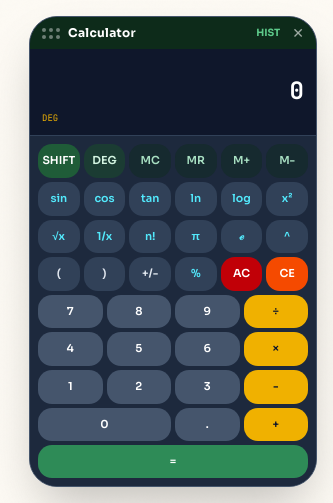
Test case: CalculatorModal › basic arithmetic › handles decimal numbers
This screenshot has width=333, height=503.
Click the button "1" at (70,387), box [38, 370, 102, 404]
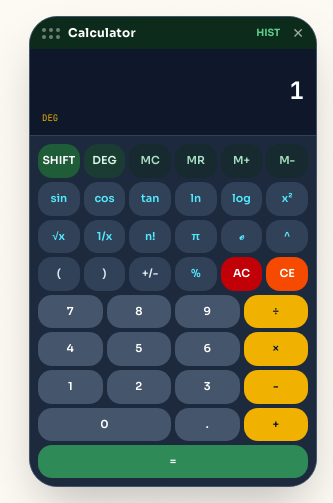
Click the button "." at (207,424), box [175, 408, 240, 441]
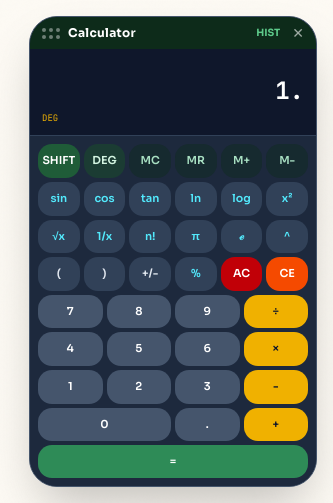
Click the button "5" at (139,349), box [106, 332, 171, 366]
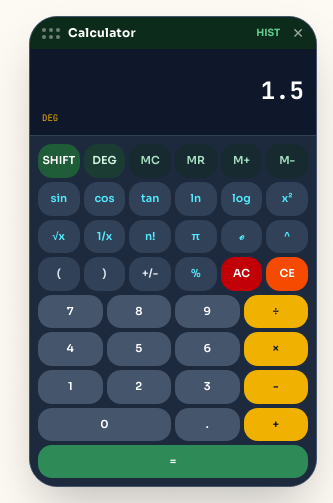
Click the button "×" at (276,349), box [244, 332, 308, 366]
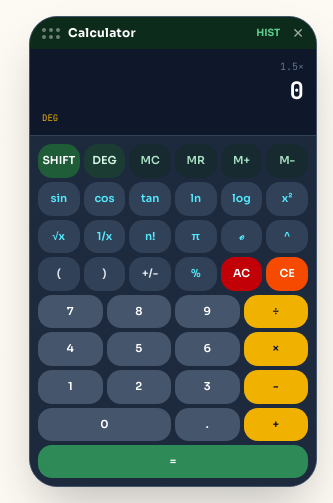
Click the button "2" at (139,387), box [106, 370, 171, 404]
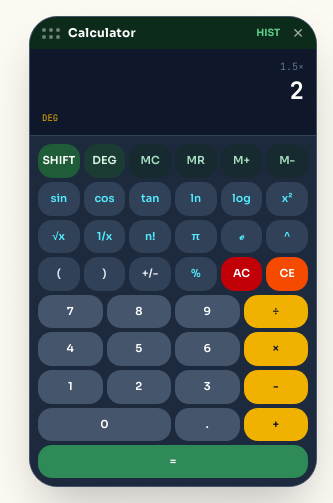
Click the button "=" at (173,461), box [38, 445, 308, 478]
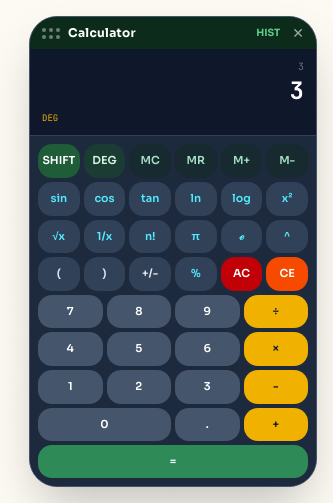
Check: the 2nd text "3" is shown, box [290, 75, 304, 106]
